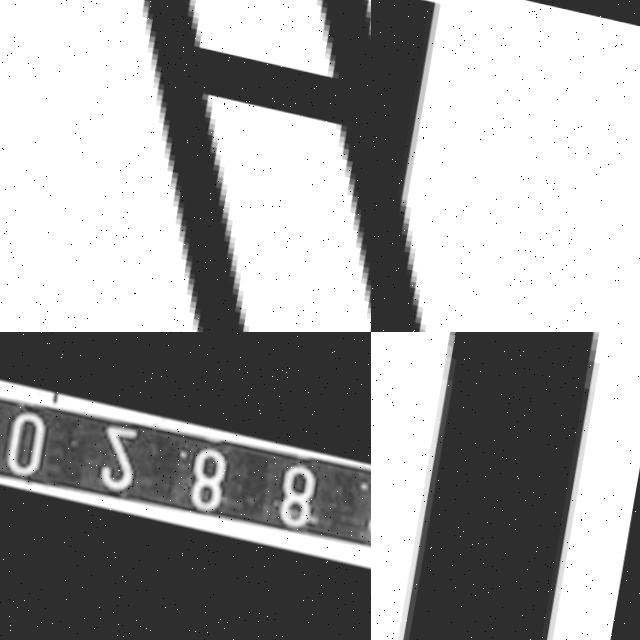0: (0, 408, 48, 483)
2: (89, 421, 138, 497)
3: (359, 467, 371, 540)
8: (180, 439, 231, 515), (269, 454, 318, 530)
H: (0, 0, 371, 332)
U: (371, 332, 636, 640)
Y: (371, 0, 548, 332)
